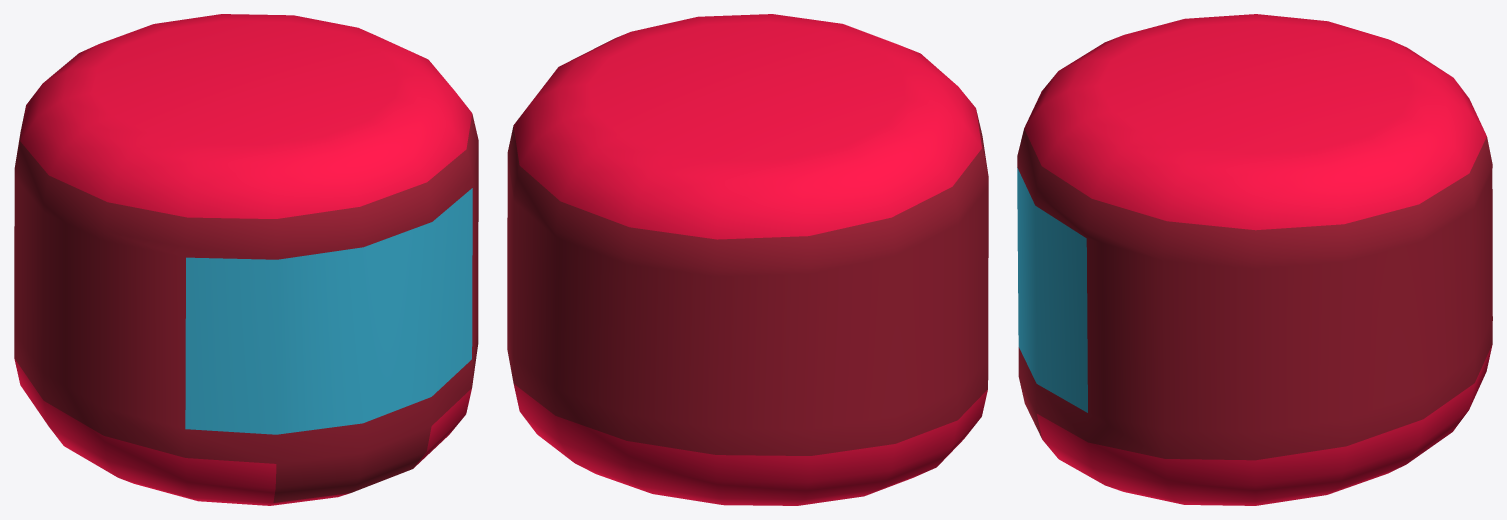
Rendered from Shooterhelmet.fbx.
3 views of the same model, side by side, from view 1: azimuth 30°, elevation 25°; view 2: azimuth 150°, elevation 25°; view 3: azimuth 270°, elevation 25° (orthographic). The views are drawn at different scales.
Visible parts, largest first — view 1: Cylinder; view 2: Cylinder; view 3: Cylinder.
Part boxes in pixels (box(x1,y1,x2,y2)): Cylinder: box(14, 14, 478, 505); Cylinder: box(507, 14, 988, 505); Cylinder: box(1017, 14, 1492, 505).
Size of the model in its own units: 41.21 by 34.24 by 41.23.
